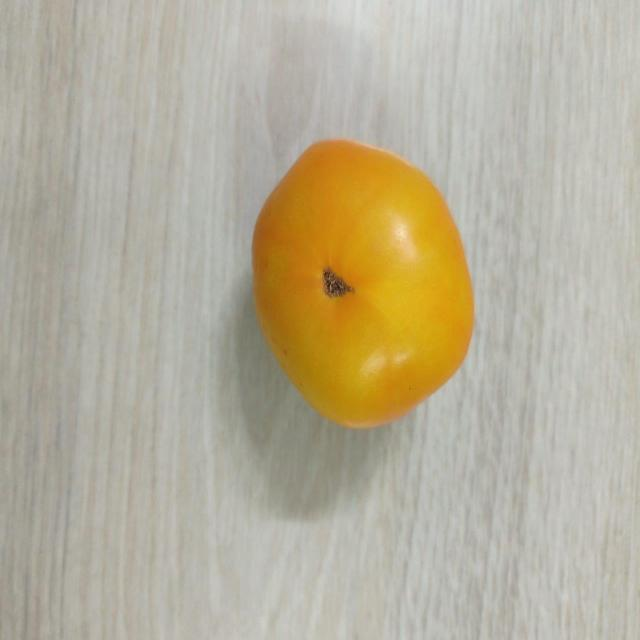Tomato: (249, 134, 476, 431)
